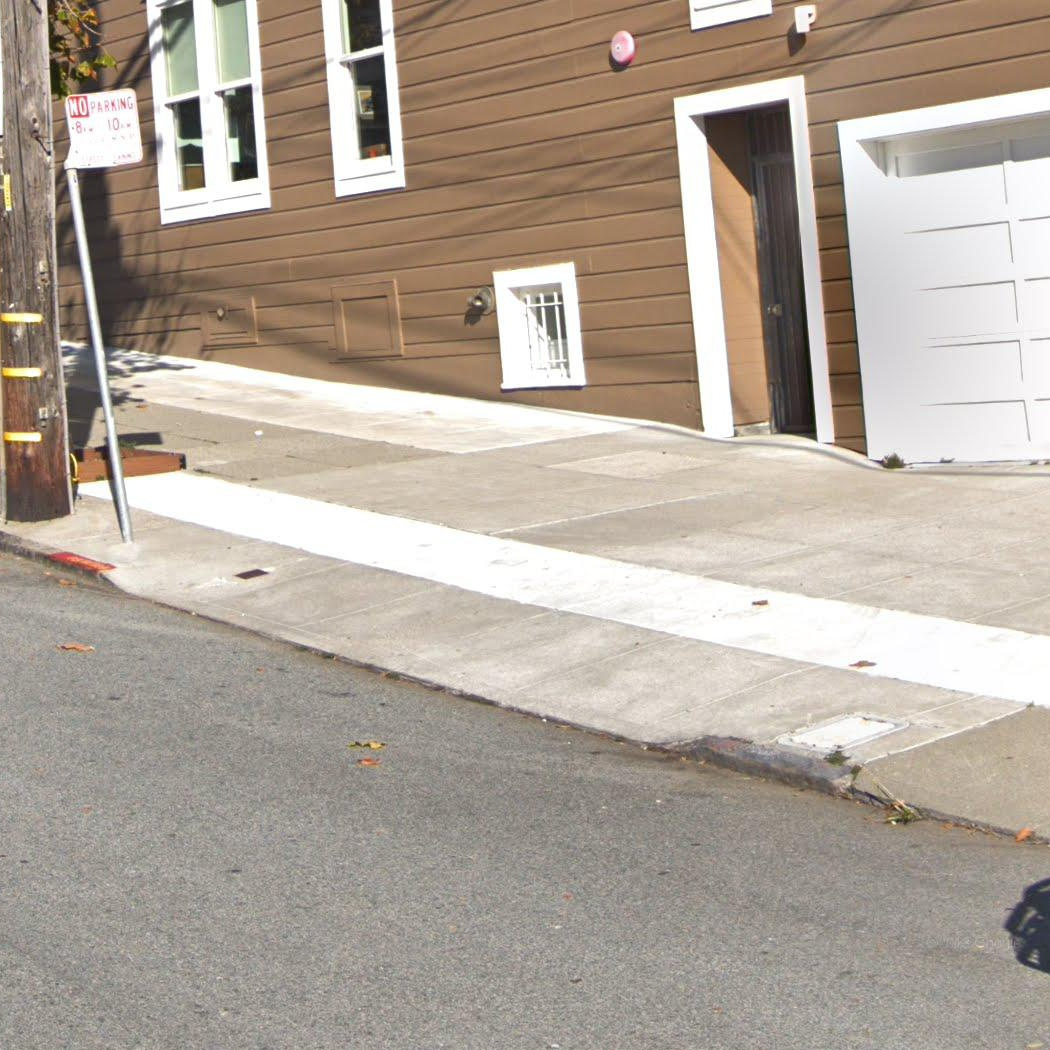No Parking: (60, 88, 147, 173)
